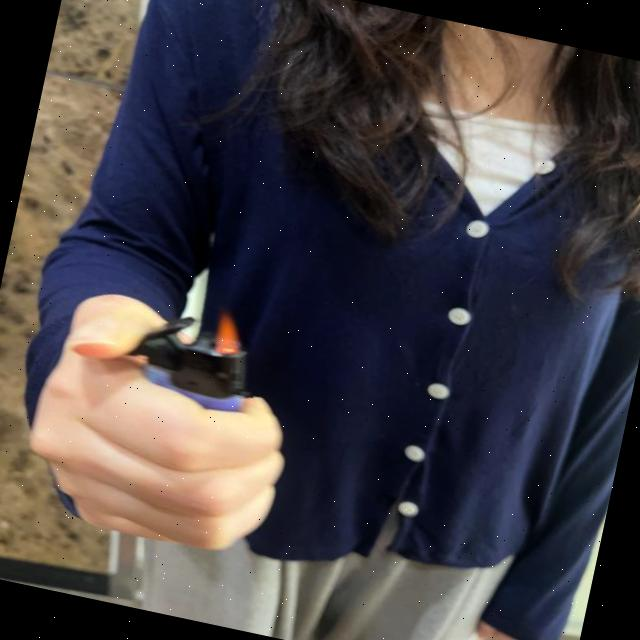fire: (206, 306, 250, 357)
